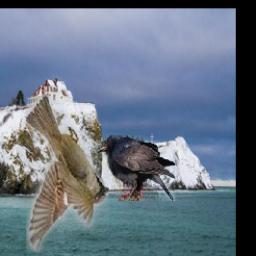Crow: (96, 136, 176, 202)
Sparrow: (26, 96, 109, 252)
